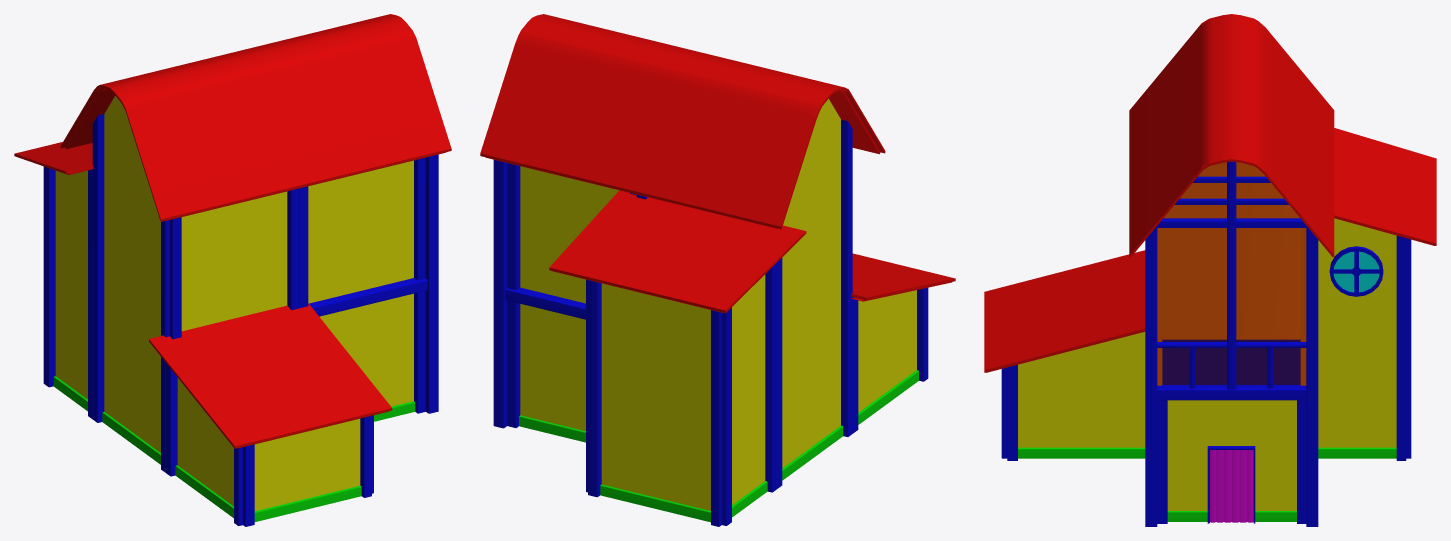
The model's file is House1 Model.fbx.
3 renders of one model, left to right at view 1: azimuth 30°, elevation 25°; view 2: azimuth 150°, elevation 25°; view 3: azimuth 270°, elevation 25°, orthographic. The views are drawn at different scales.
Parts seen in each view (by area): view 1: House_1_Combined; view 2: House_1_Combined; view 3: House_1_Combined.
Part boxes in pixels (x1,y1,x2,y2): House_1_Combined: (14,14,451,526); House_1_Combined: (480,14,955,526); House_1_Combined: (984,14,1436,526).
Bounding box in the file's own units: 7.1 × 8.19 × 9.08.
